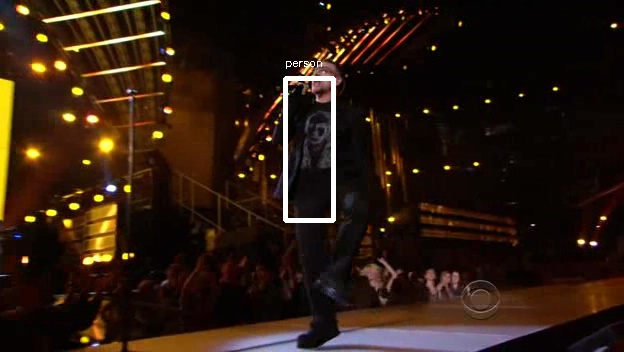person: (282, 60, 368, 234), (279, 60, 365, 234), (285, 60, 371, 234), (282, 57, 368, 231), (282, 63, 368, 237)
target_negative: (86, 101, 587, 300), (377, 32, 608, 229), (169, 118, 532, 217), (425, 247, 615, 326), (446, 164, 477, 247), (94, 317, 267, 319)
